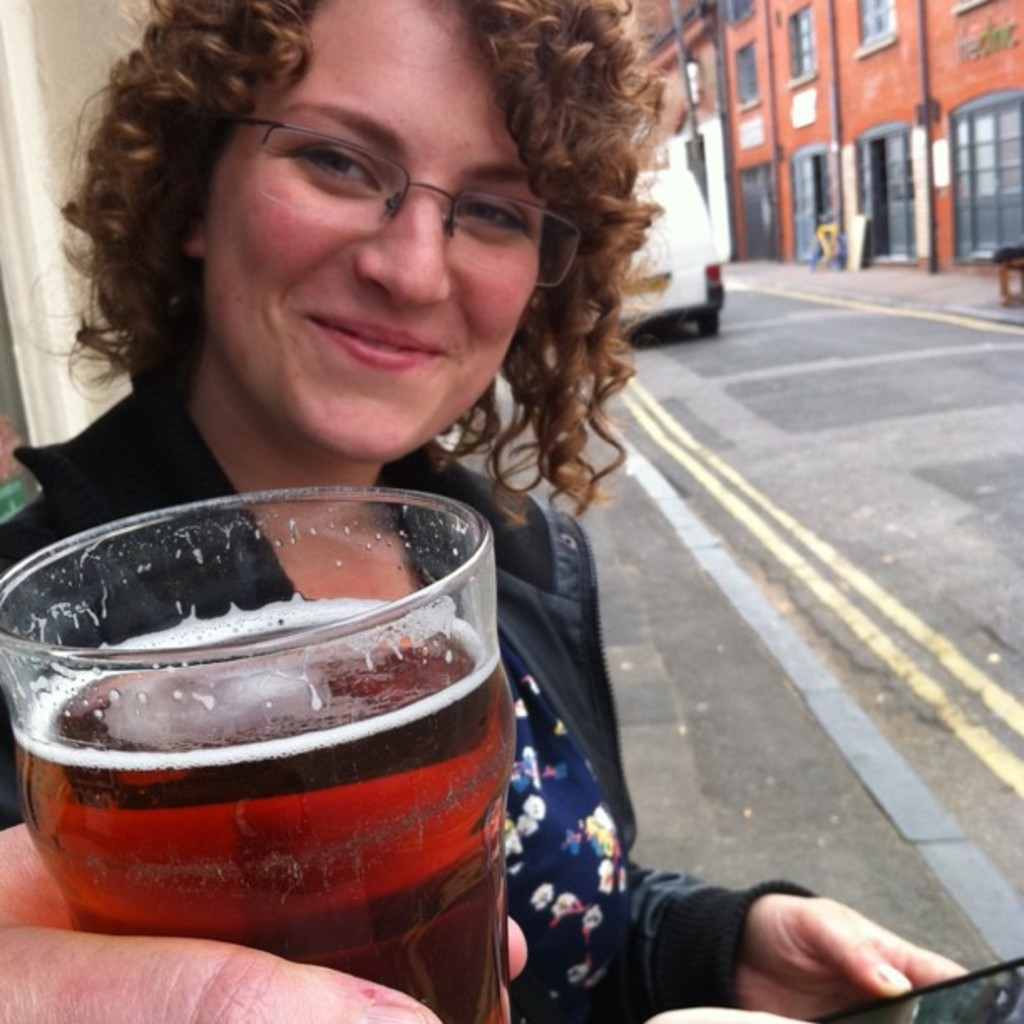Beer: (25, 605, 508, 1018)
